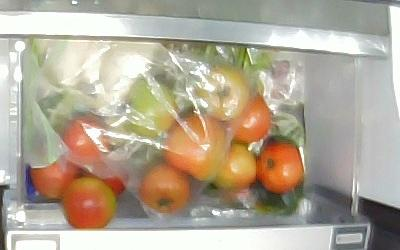tomato: (60, 176, 117, 228), (256, 139, 304, 193), (212, 141, 257, 188), (227, 96, 271, 143)
tomato_vinyl: (163, 115, 227, 180), (119, 78, 179, 138), (196, 67, 250, 121), (139, 162, 191, 212), (29, 155, 84, 199), (63, 115, 111, 163), (84, 161, 130, 196)
